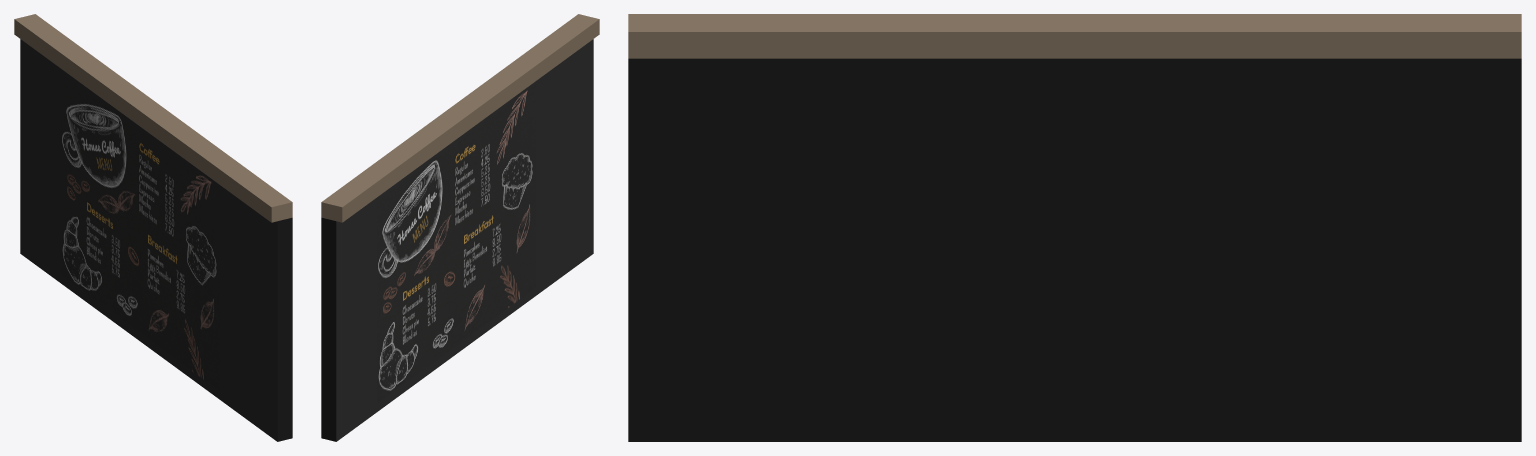
Rendered from Menu3.fbx.
3 renders of one model, left to right at view 1: azimuth 30°, elevation 25°; view 2: azimuth 150°, elevation 25°; view 3: azimuth 270°, elevation 25°, orthographic. The views are drawn at different scales.
Visible parts, largest first — view 1: pCube312; view 2: pCube312; view 3: pCube312.
Part boxes in pixels (bbox=[...]): pCube312: bbox=[14, 14, 292, 441]; pCube312: bbox=[321, 14, 599, 441]; pCube312: bbox=[628, 14, 1521, 441].
Size of the model in its own units: 16 by 171 by 338.
